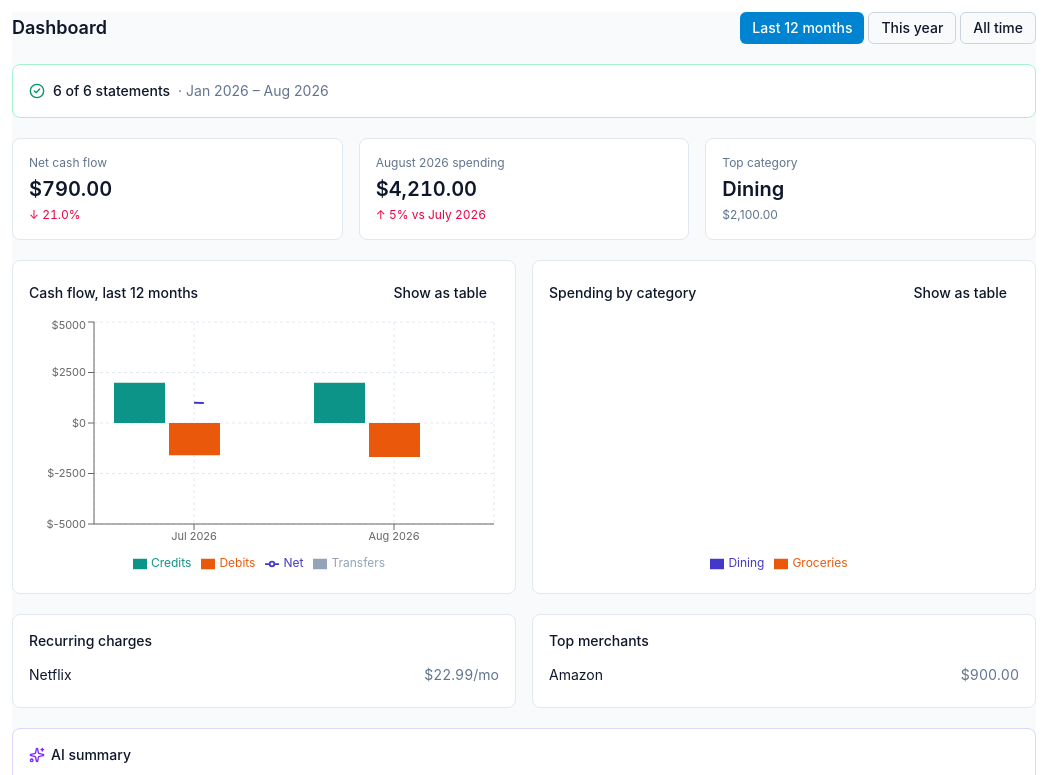
Test: DashboardRoute › the cash-flow chart has a "show as table" toggle
Expected: the heading "Cash flow, last 12 months" is shown, top-left (29, 283), bottom-right (198, 303)
Click the button "Show as table" in the row of "Cash flow, last 12 months": {"x": 440, "y": 293} top-left (382, 277), bottom-right (499, 309)
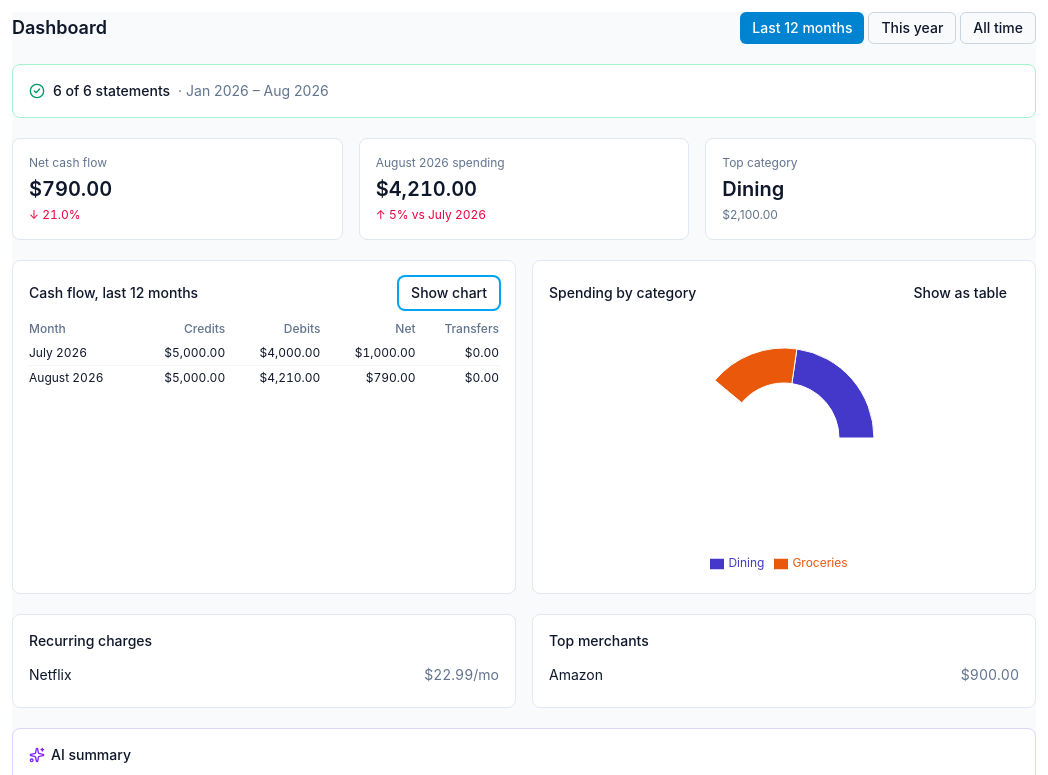
Expected: the button "Show chart" is shown, top-left (399, 277), bottom-right (499, 309)
